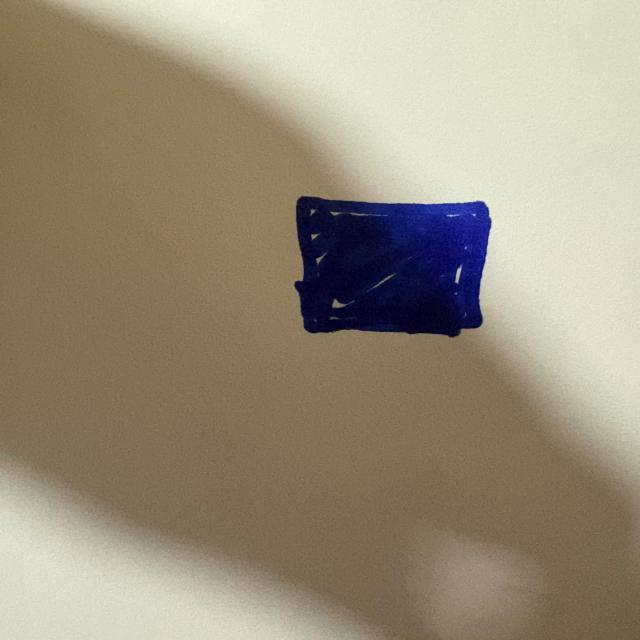Square: (295, 197, 491, 337)
